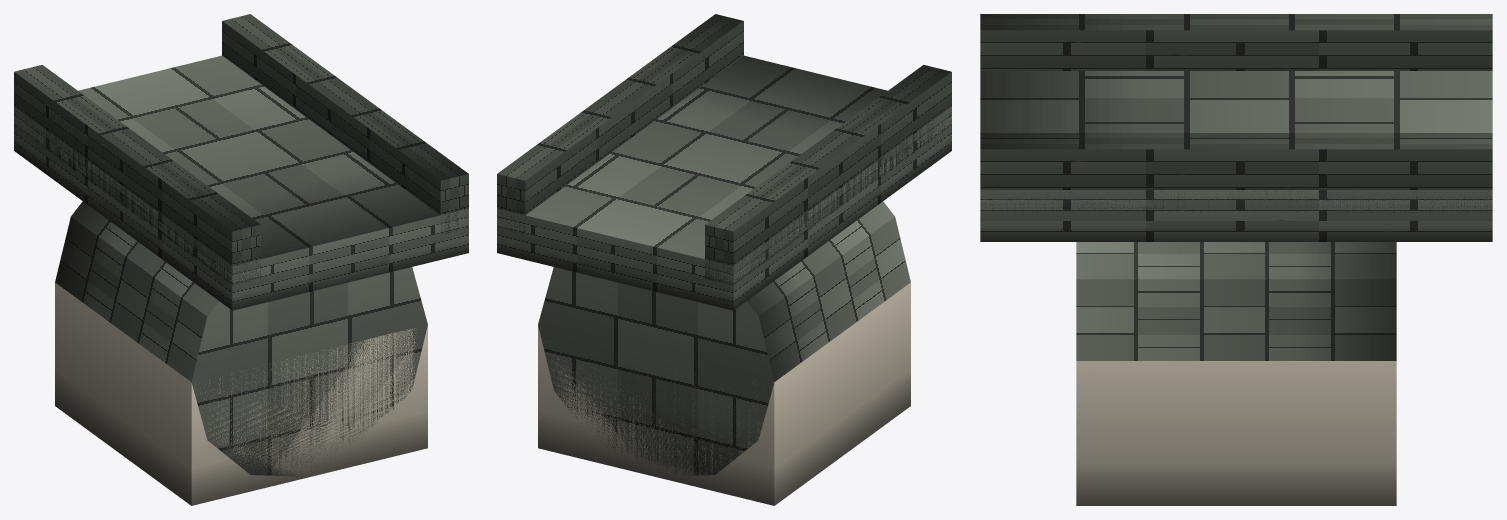
File: stone_bridge.gltf
3 views of the same model, side by side, from view 1: azimuth 30°, elevation 25°; view 2: azimuth 150°, elevation 25°; view 3: azimuth 270°, elevation 25° (orthographic). The views are drawn at different scales.
Parts seen in each view (by area): view 1: stone_bridge; view 2: stone_bridge; view 3: stone_bridge.
Part boxes in pixels (left/top/right/bottom): stone_bridge: left=14, top=14, right=468, bottom=505; stone_bridge: left=497, top=14, right=951, bottom=505; stone_bridge: left=980, top=14, right=1492, bottom=505.
Bounding box in the file's own units: 1 × 1.23 × 1.6.
1 material, 1 textured.
